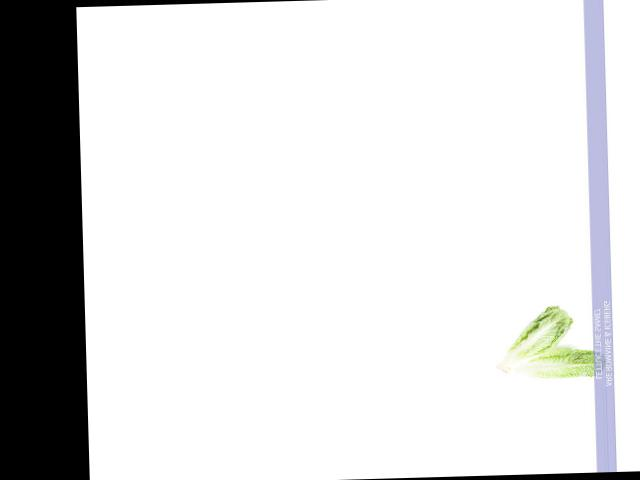lettuce: (495, 306, 580, 376)
